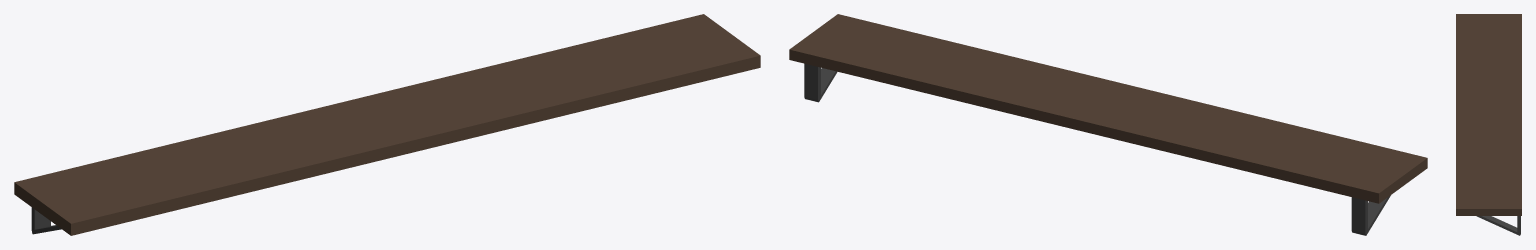
The model's file is Prateleira.fbx.
The picture shows the model from 3 angles, left to right: view 1: azimuth 30°, elevation 25°; view 2: azimuth 150°, elevation 25°; view 3: azimuth 270°, elevation 25°; orthographic projection. The views are drawn at different scales.
Parts seen in each view (by area): view 1: BasePCA.003; view 2: BasePCA.003; view 3: BasePCA.003.
Part boxes in pixels (box(x1,y1,x2,y2)): BasePCA.003: box(14, 14, 760, 235); BasePCA.003: box(789, 14, 1427, 235); BasePCA.003: box(1456, 14, 1521, 235).
Size of the model in its own units: 191 by 14.53 by 27.2.
